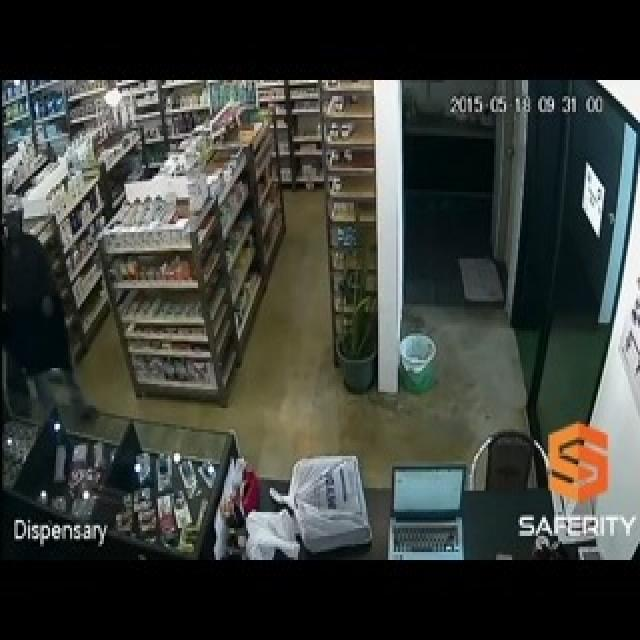thief: (0, 199, 67, 406)
